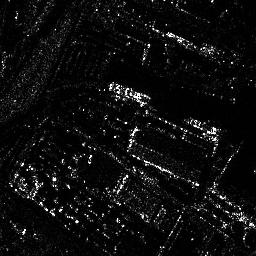ship: (109, 80, 152, 104)
